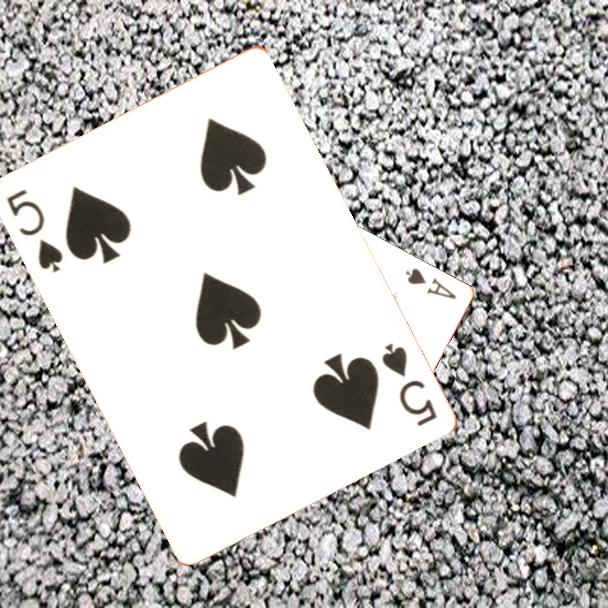s01: (401, 265, 459, 303)
s05: (2, 185, 66, 276), (377, 339, 439, 429)
